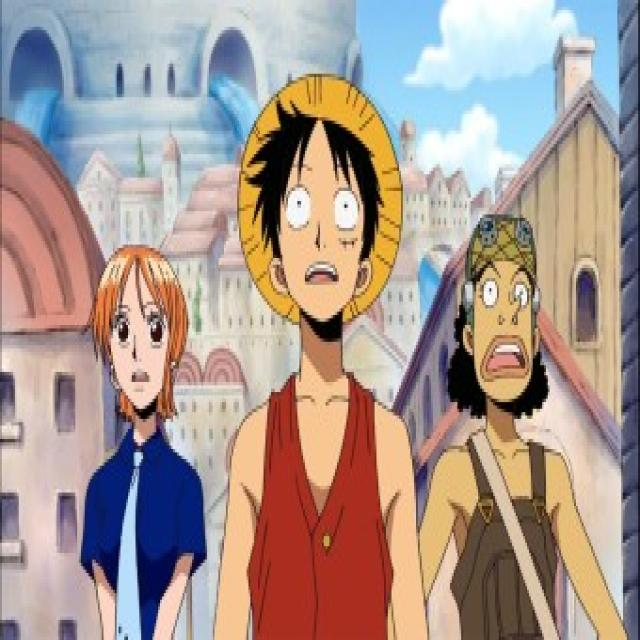Luffy: (236, 71, 406, 330)
Nami: (87, 242, 196, 428)
Usopp: (448, 209, 558, 418)
